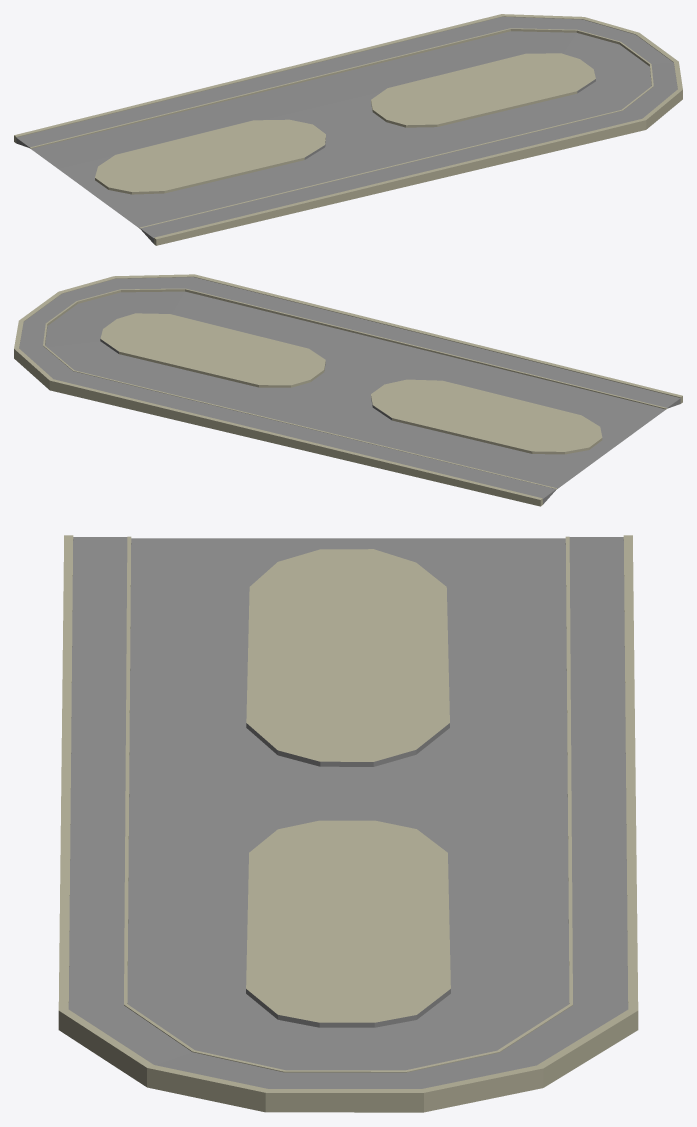
Rendered from RoundAbout.fbx.
The picture shows the model from 3 angles, top to bottom: view 1: azimuth 30°, elevation 25°; view 2: azimuth 150°, elevation 25°; view 3: azimuth 270°, elevation 25°; orthographic projection. The views are drawn at different scales.
Parts seen in each view (by area): view 1: RoadPart2; view 2: RoadPart2; view 3: RoadPart2.
Boxes of the visible parts, bbox=[...] form: RoadPart2: bbox=[14, 14, 682, 245]; RoadPart2: bbox=[14, 274, 682, 506]; RoadPart2: bbox=[58, 535, 638, 1112].
Bounding box in the file's own units: 7720 × 127 × 3380.
